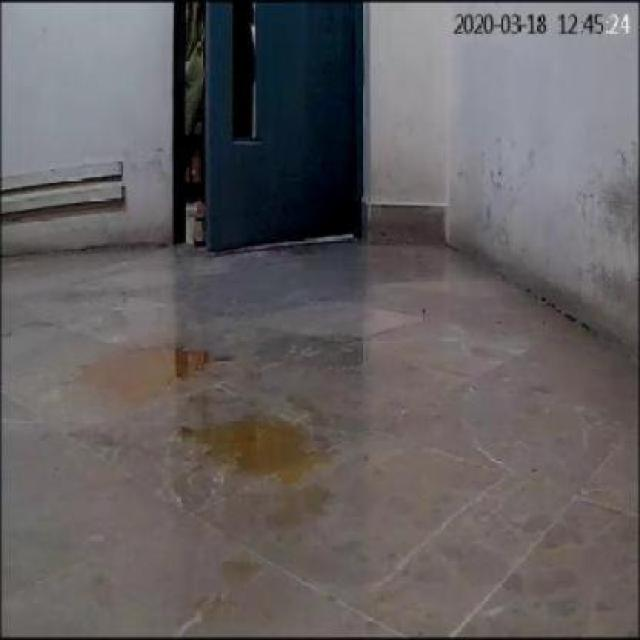spillage: (173, 411, 331, 489), (70, 342, 218, 404)
